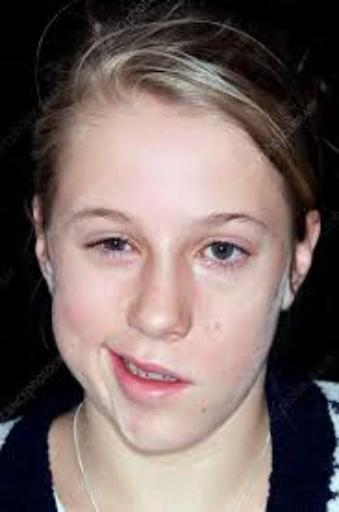left_eye: (193, 240, 255, 272)
left_lip_corner: (185, 373, 204, 395)
right_eye: (83, 234, 143, 264)
right_lip_corner: (102, 342, 123, 364)
